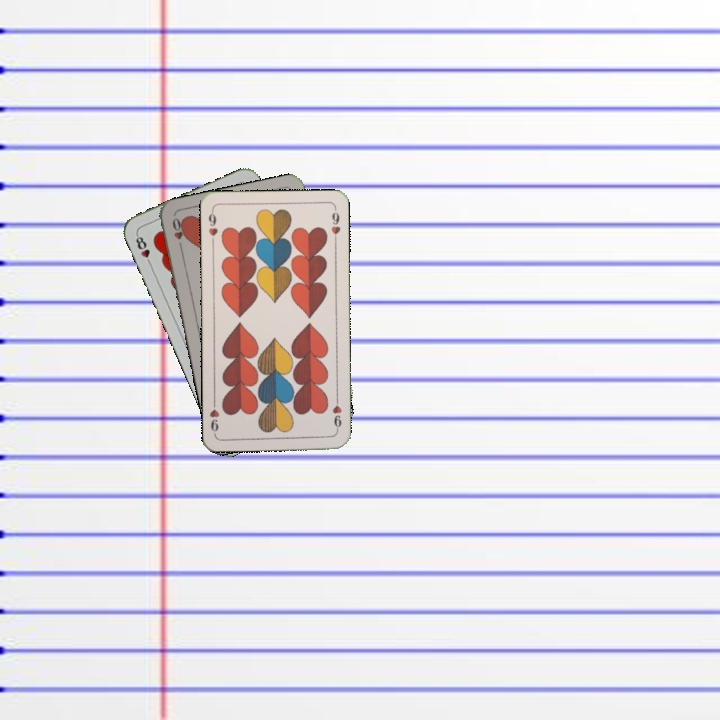H8: (131, 230, 155, 269)
H9: (204, 206, 220, 247), (328, 393, 344, 434)
HO: (168, 213, 187, 254)
